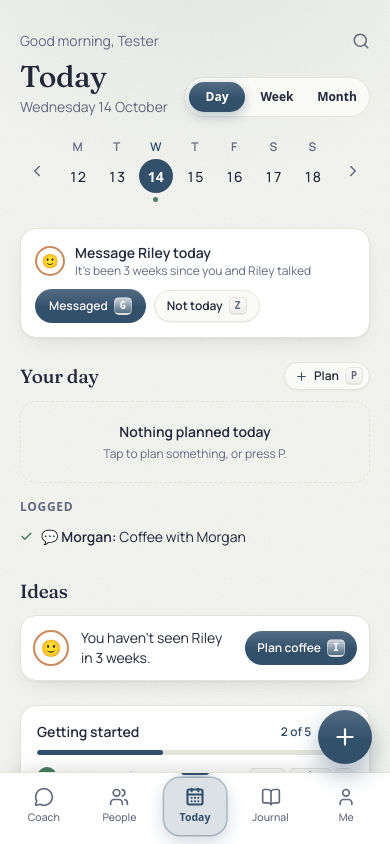
Test: P2 journal editing and filters › edits an entry: note, type, meaningfulness and reflection
Click the button "Journal" at point(271, 807), box [233,781,308,832]
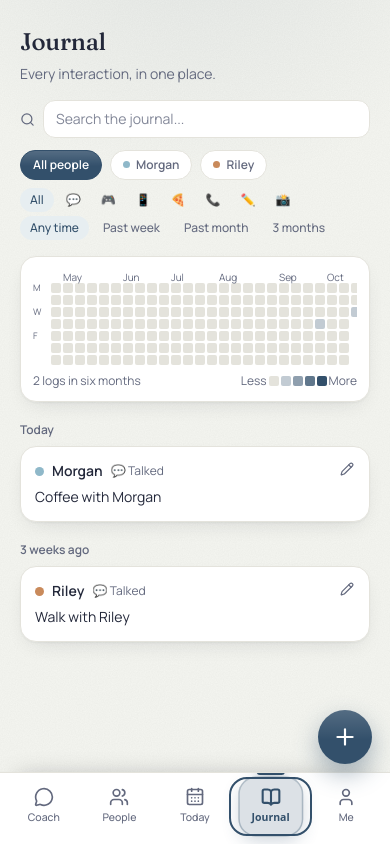
Click the button named "Edit entry: Morgan" at point(347, 469), box [334,456,360,482]
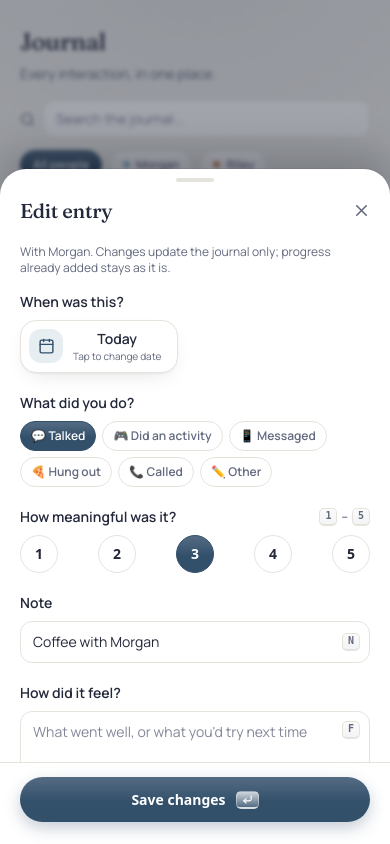
Replace the text in the field named "Note" with "Long lunch with Morgan" at point(195, 642), box [20,621,370,663]
Click the button "🍕 Hung out" at point(66, 472), box [20,457,112,487]
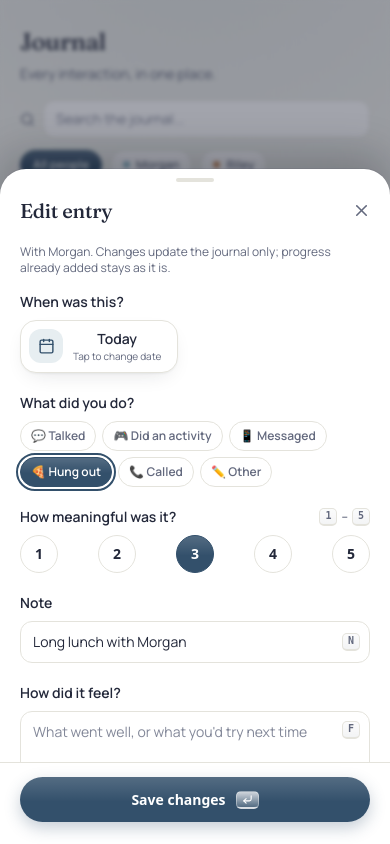
Click the button "5" at point(351, 554), box [332,535,370,573]
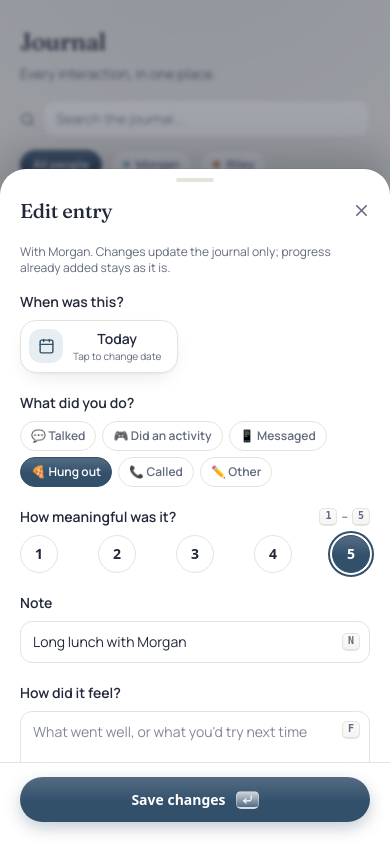
Type "Really relaxed" into the text box named "Reflection" at point(195, 752), box [20,711,370,793]
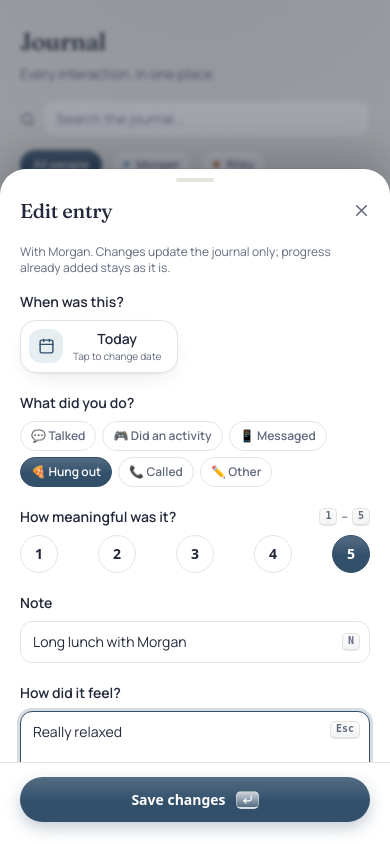
Click the button "Save changes" at point(195, 800), box [20,777,370,822]
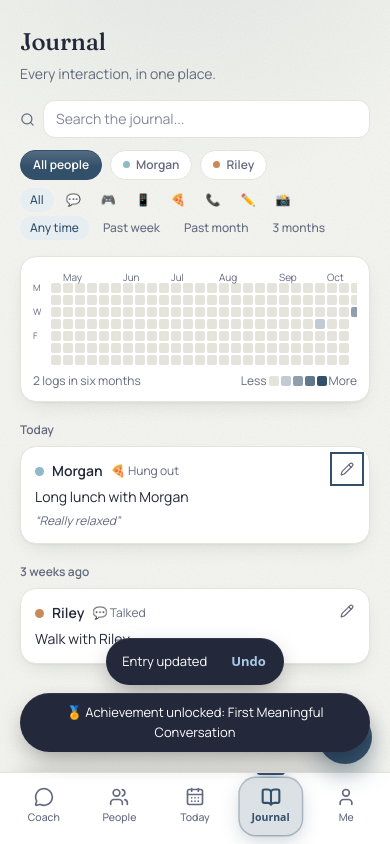
Expected: the text "Long lunch with Morgan" is shown, [35,487,188,506]
